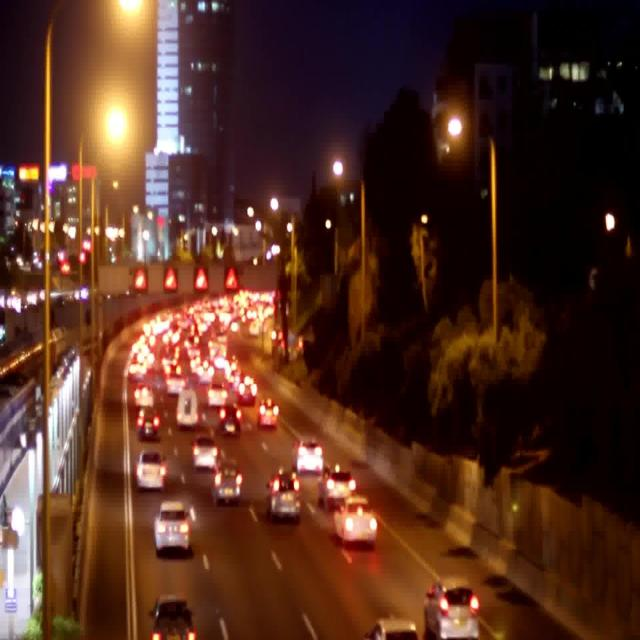Car: (423, 581, 480, 639), (332, 496, 378, 548), (148, 594, 196, 640), (268, 467, 306, 524), (154, 499, 192, 555), (318, 468, 356, 512), (213, 460, 244, 506), (364, 616, 419, 640), (135, 451, 167, 492), (296, 438, 324, 475), (192, 436, 220, 470), (136, 406, 162, 441), (218, 404, 242, 436), (164, 363, 187, 396), (207, 378, 230, 409), (258, 398, 279, 429), (236, 376, 256, 406), (134, 382, 154, 409)
